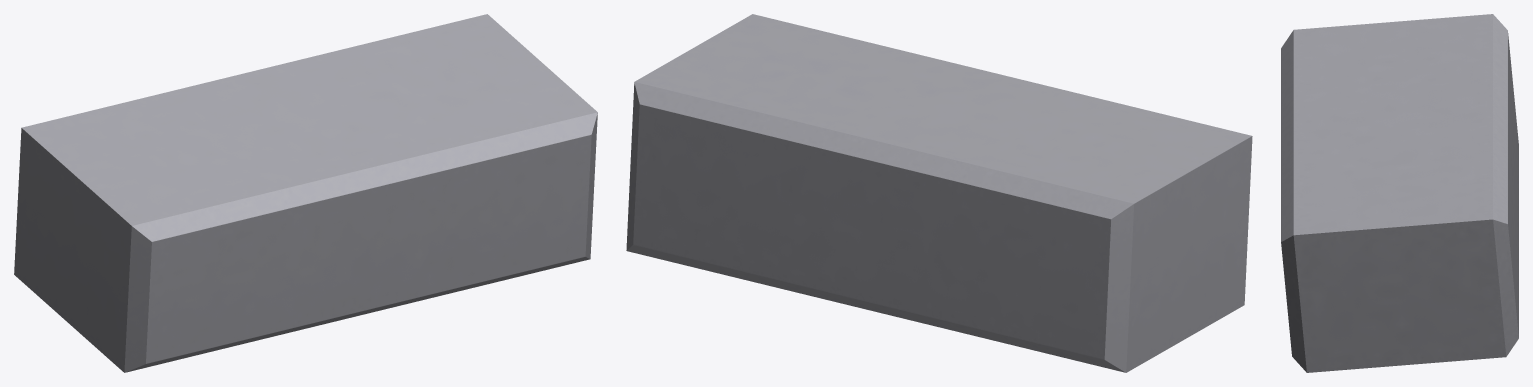
File: Minus.FBX
The picture shows the model from 3 angles, left to right: view 1: azimuth 30°, elevation 25°; view 2: azimuth 150°, elevation 25°; view 3: azimuth 270°, elevation 25°; orthographic projection. The views are drawn at different scales.
Visible parts, largest first — view 1: minus; view 2: minus; view 3: minus.
Boxes of the visible parts, bbox=[...] form: minus: bbox=[14, 14, 597, 372]; minus: bbox=[626, 14, 1252, 372]; minus: bbox=[1281, 14, 1518, 372].
Bounding box in the file's own units: 70.46 × 24.54 × 34.47.
